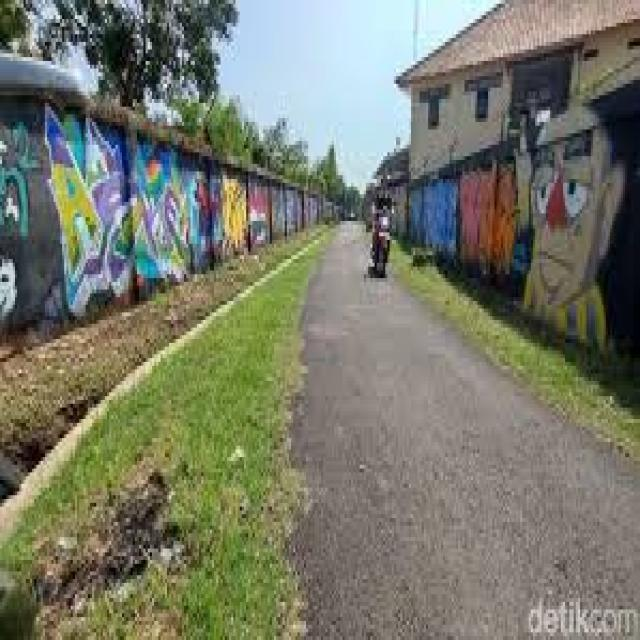-: (0, 92, 133, 329), (516, 108, 632, 352), (136, 136, 210, 294), (458, 163, 514, 271), (212, 170, 272, 266), (406, 176, 456, 253)
